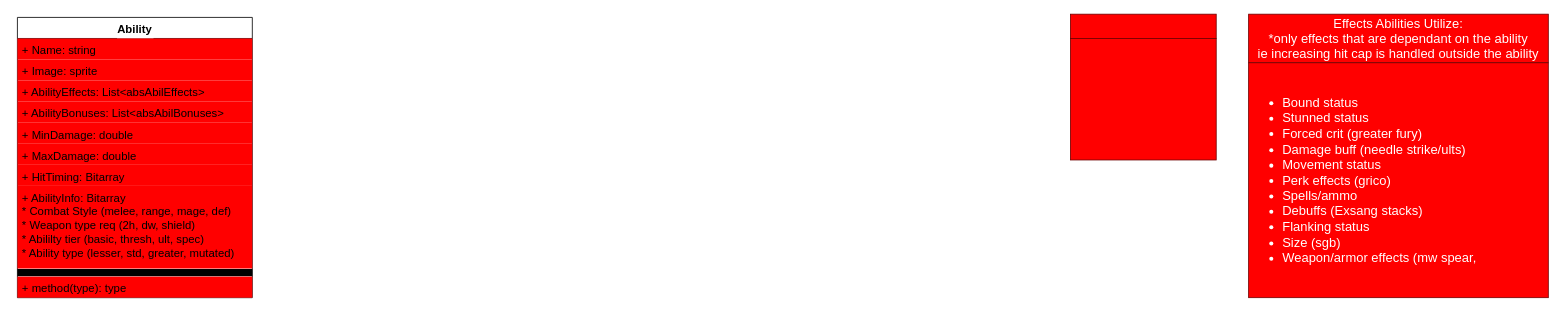
The diagram is 1562 pixels wide and 314 high, and some of its shapes have lost their labels. The shapes that lost their labels are listed below. From the top down, each one's centre as x and y in pixels, then its label:
the point at 1143,25: Abililty Effects:
the point at 1143,99: Bind Stun Bleed Add stack Buff damage Force next crit
